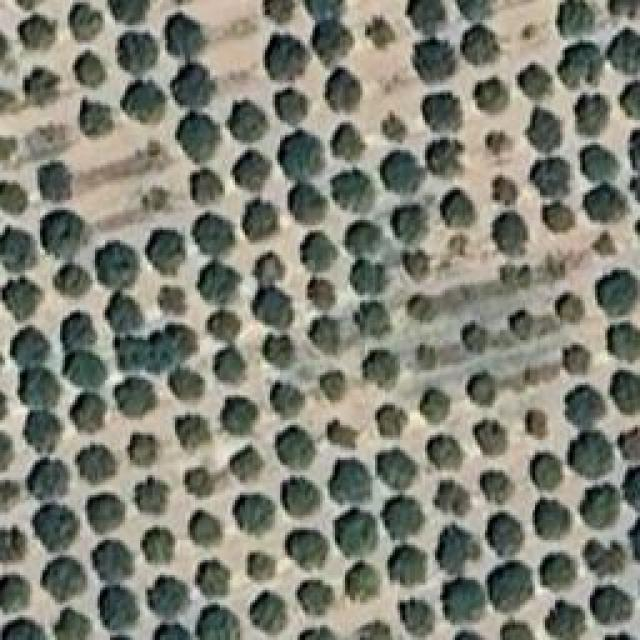Tree: (175, 107, 223, 164), (33, 505, 86, 554), (275, 130, 326, 177), (265, 35, 315, 82), (490, 563, 537, 613), (557, 35, 604, 85), (38, 550, 87, 597), (388, 545, 438, 591), (90, 535, 137, 583), (440, 575, 487, 622), (160, 13, 206, 61), (92, 242, 139, 288), (275, 427, 323, 472), (320, 65, 364, 114), (580, 183, 630, 226), (115, 335, 167, 376), (287, 527, 333, 573), (13, 370, 64, 411), (0, 272, 45, 318), (327, 460, 373, 505), (562, 382, 608, 427), (100, 585, 147, 629), (530, 497, 574, 544), (23, 463, 74, 503), (142, 227, 187, 272), (337, 565, 382, 610), (0, 225, 43, 272), (330, 170, 377, 213), (435, 528, 478, 575), (597, 267, 640, 314), (535, 550, 582, 593), (125, 77, 170, 121), (412, 40, 457, 84), (585, 535, 629, 580), (375, 445, 420, 488), (565, 434, 611, 476), (148, 570, 189, 617), (103, 290, 146, 334), (378, 498, 422, 541), (13, 325, 55, 370), (70, 390, 115, 432), (425, 135, 465, 182), (83, 493, 126, 536), (430, 480, 473, 523), (458, 25, 501, 68), (42, 213, 86, 255), (545, 598, 589, 640), (383, 150, 423, 196), (340, 510, 380, 556), (240, 198, 282, 241), (300, 233, 344, 274), (525, 450, 569, 491), (398, 590, 438, 635), (527, 158, 572, 198), (35, 158, 74, 204), (280, 475, 327, 513), (583, 483, 620, 531), (424, 93, 466, 135), (470, 418, 514, 458), (483, 512, 522, 557), (578, 140, 617, 185), (195, 602, 242, 639), (530, 107, 567, 154), (65, 3, 108, 43), (465, 75, 505, 118), (115, 33, 159, 72), (248, 290, 295, 326), (23, 65, 64, 106), (218, 398, 262, 436), (365, 345, 402, 390), (480, 467, 516, 513), (385, 203, 426, 243), (53, 310, 95, 349), (593, 588, 635, 627), (75, 98, 113, 141), (227, 150, 272, 186), (73, 443, 113, 483), (200, 265, 239, 306), (425, 433, 464, 474), (440, 188, 479, 229), (553, 0, 594, 39), (575, 97, 611, 141), (605, 317, 640, 362), (173, 65, 213, 104), (228, 100, 268, 139), (253, 588, 292, 628), (298, 578, 337, 617), (153, 278, 192, 317), (195, 213, 235, 251), (138, 475, 176, 515), (60, 350, 101, 387), (155, 323, 196, 360), (18, 13, 54, 55), (185, 165, 219, 209), (610, 363, 639, 414), (493, 210, 529, 251), (404, 0, 450, 32), (375, 403, 410, 445), (345, 260, 388, 294), (115, 380, 159, 413), (460, 375, 498, 413), (273, 88, 312, 125), (285, 183, 324, 220), (345, 218, 382, 256), (140, 525, 177, 563), (23, 415, 62, 451), (210, 348, 249, 384), (358, 300, 397, 336), (458, 323, 494, 362), (518, 65, 556, 101), (496, 260, 534, 296), (173, 413, 212, 448), (310, 23, 347, 59), (540, 200, 577, 236), (193, 560, 228, 598), (305, 275, 339, 314), (228, 450, 265, 485), (125, 430, 160, 467), (238, 495, 273, 531), (190, 510, 225, 546), (485, 173, 521, 208), (420, 390, 453, 428), (208, 303, 238, 344), (53, 263, 88, 298), (72, 53, 106, 89), (395, 247, 431, 281), (607, 27, 640, 64), (270, 385, 304, 420), (310, 315, 346, 348), (505, 308, 538, 344), (52, 607, 87, 640), (265, 333, 297, 369), (0, 177, 30, 215), (315, 367, 348, 401), (172, 365, 206, 398), (327, 415, 361, 448), (332, 125, 364, 159), (252, 255, 286, 287), (245, 545, 279, 577), (560, 340, 594, 372), (617, 77, 639, 124), (182, 465, 214, 497), (375, 110, 408, 141), (407, 293, 440, 324), (615, 426, 639, 468), (258, 0, 298, 25), (0, 575, 30, 608), (137, 184, 170, 214), (360, 18, 393, 48), (553, 293, 588, 321), (107, 0, 145, 25), (410, 344, 441, 374), (485, 128, 519, 155), (590, 233, 621, 262), (0, 473, 25, 508), (307, 0, 350, 20), (497, 617, 534, 640), (153, 620, 194, 640), (515, 19, 543, 48), (0, 525, 24, 557), (5, 620, 43, 640), (352, 620, 390, 640), (455, 0, 495, 19), (525, 410, 552, 436), (297, 625, 343, 639), (607, 0, 639, 20), (0, 427, 15, 465), (625, 470, 639, 510), (0, 83, 16, 114), (0, 135, 18, 159), (450, 628, 484, 640)
